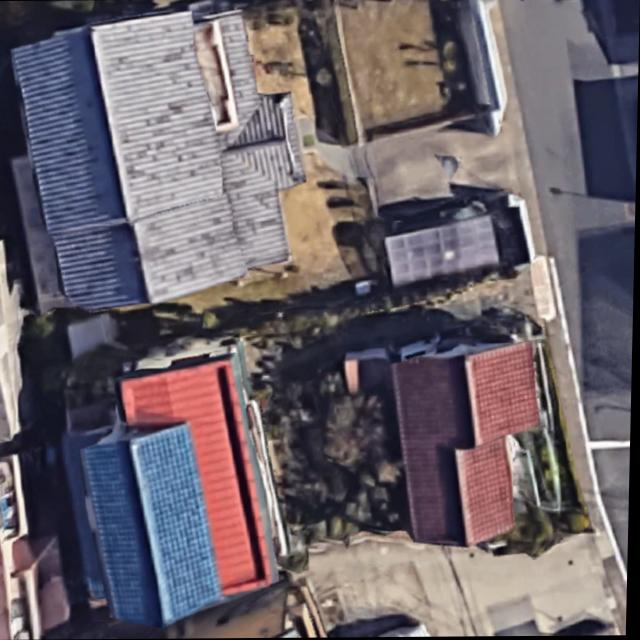Batiment: (13, 11, 305, 308), (394, 342, 590, 556)
